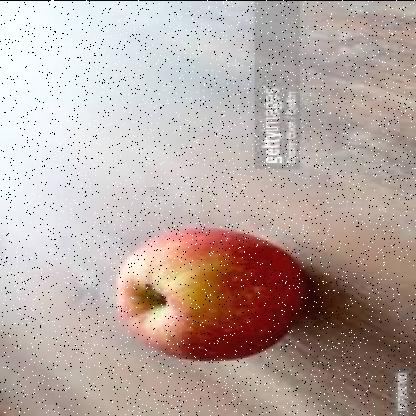apple: (116, 226, 312, 358)
